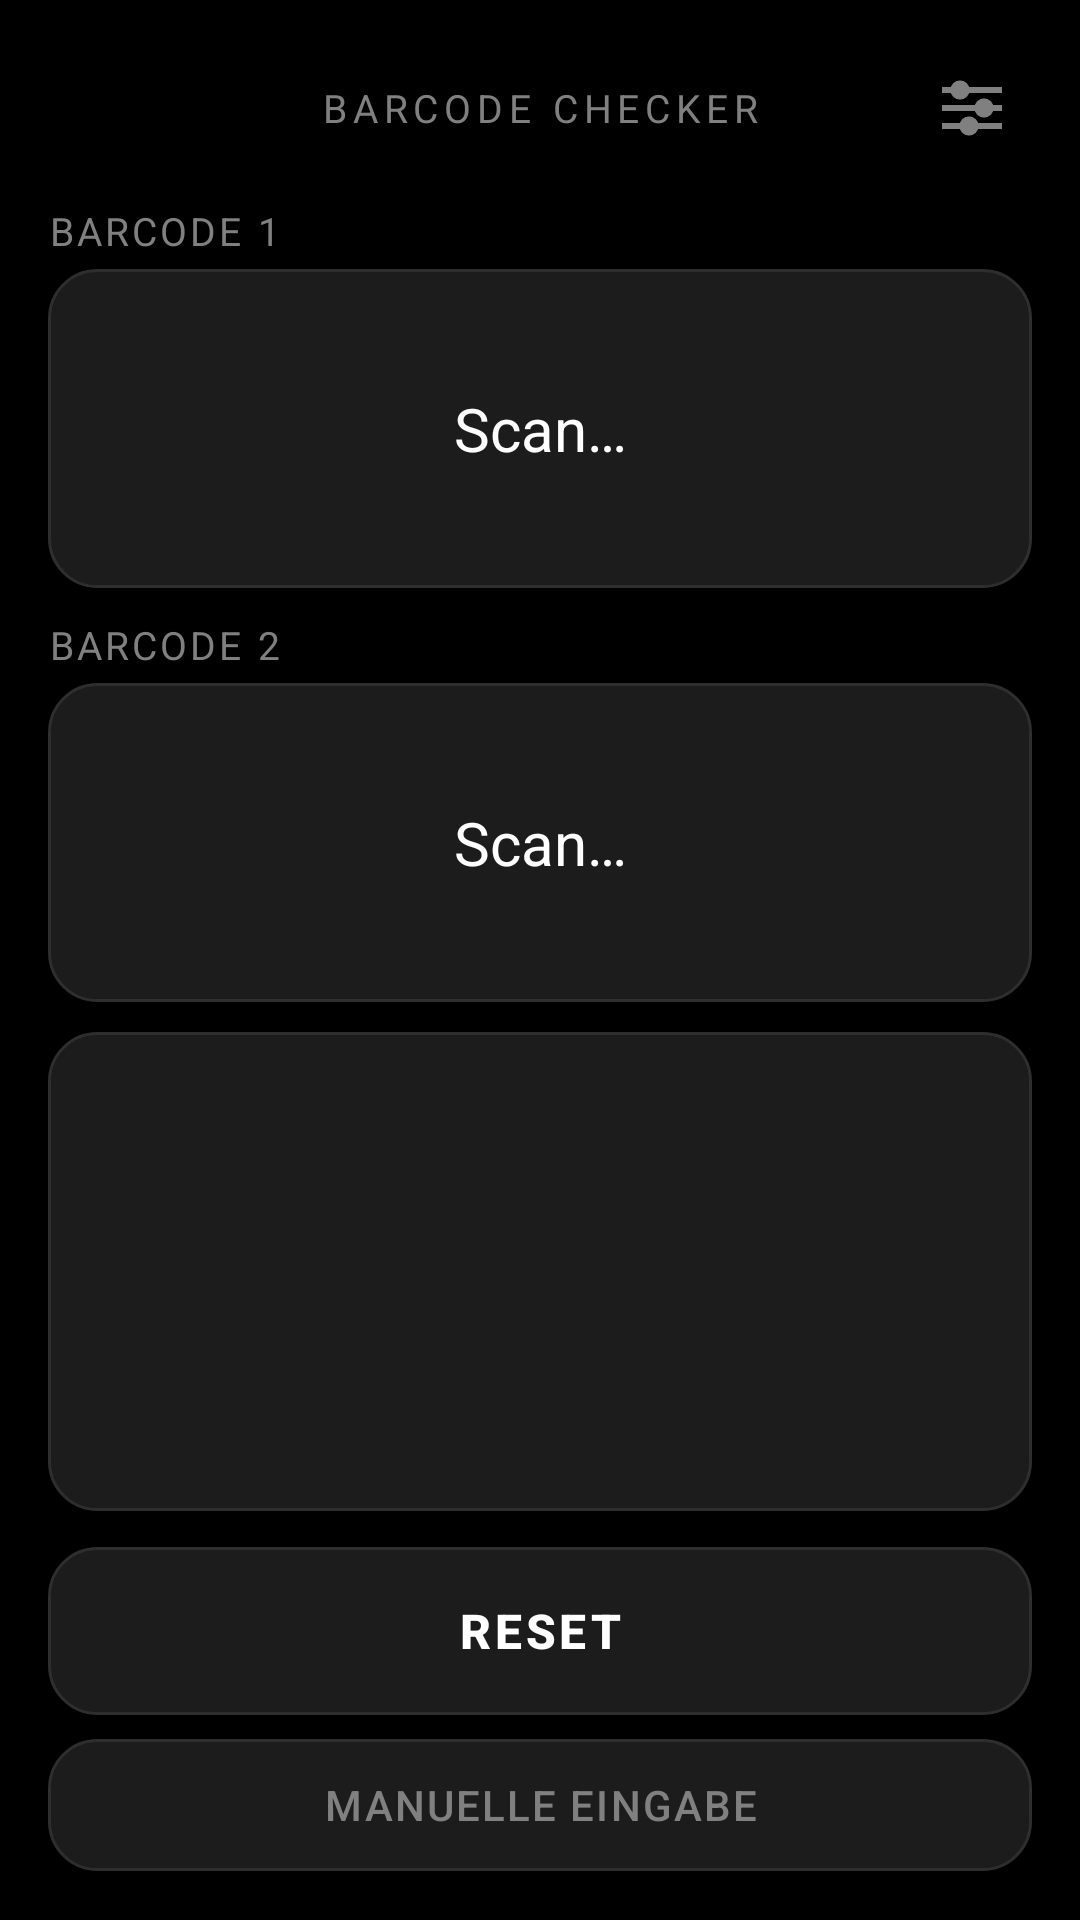

Named icons in this screenshot (1080px x 1920px) and their bounding boxes, (x1, y1, x2, y2):
Einstellungen öffnen: (942, 80, 1002, 136)
